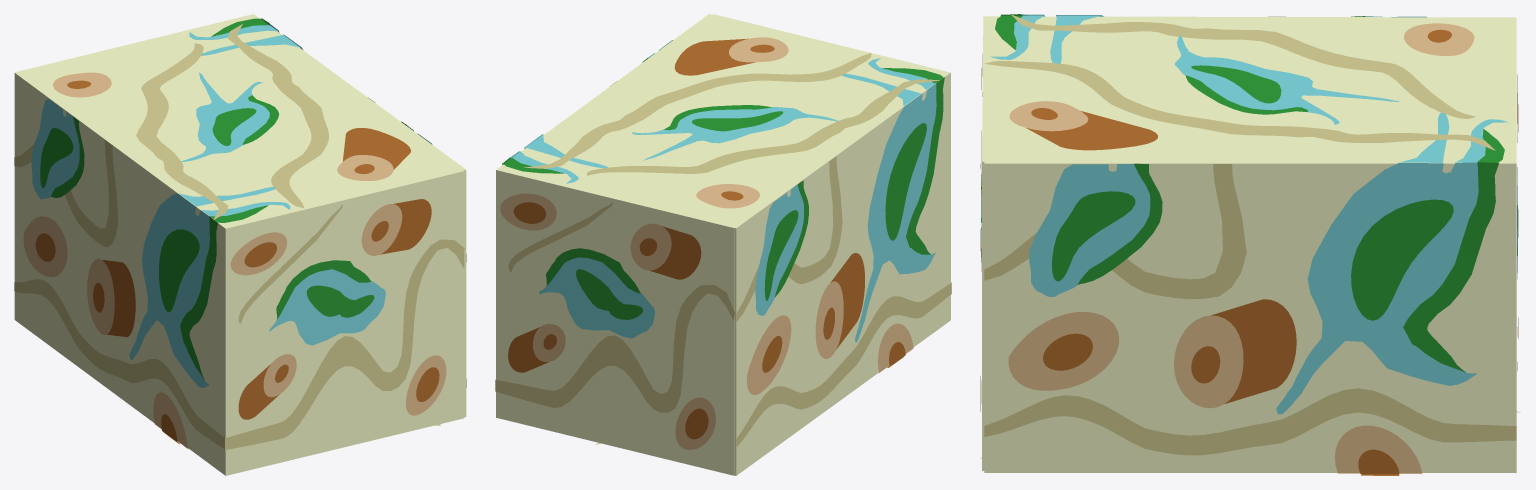
File: Connective2.0.gltf
The picture shows the model from 3 angles, left to right: view 1: azimuth 30°, elevation 25°; view 2: azimuth 150°, elevation 25°; view 3: azimuth 270°, elevation 25°; orthographic projection. The views are drawn at different scales.
Parts seen in each view (by area): view 1: Circle.035; view 2: Circle.035; view 3: Circle.035.
Boxes of the visible parts, bbox=[...] form: Circle.035: bbox=[14, 14, 466, 475]; Circle.035: bbox=[495, 14, 951, 475]; Circle.035: bbox=[980, 14, 1520, 475].
Size of the model in its own units: 3.85 by 3.74 by 5.84.
